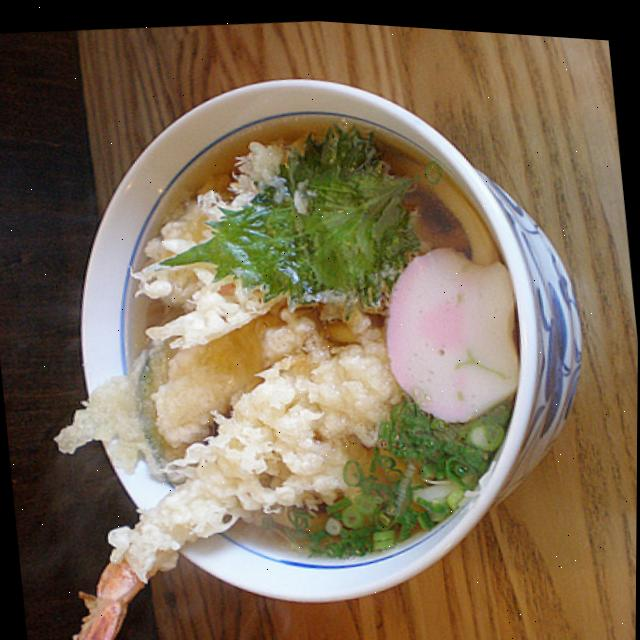面条主食: (17, 71, 570, 640)
